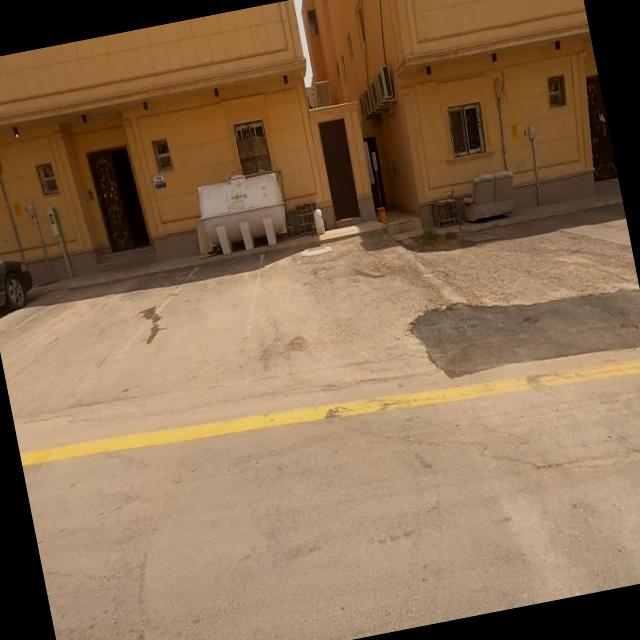debris: (406, 160, 488, 259), (282, 182, 352, 266)
